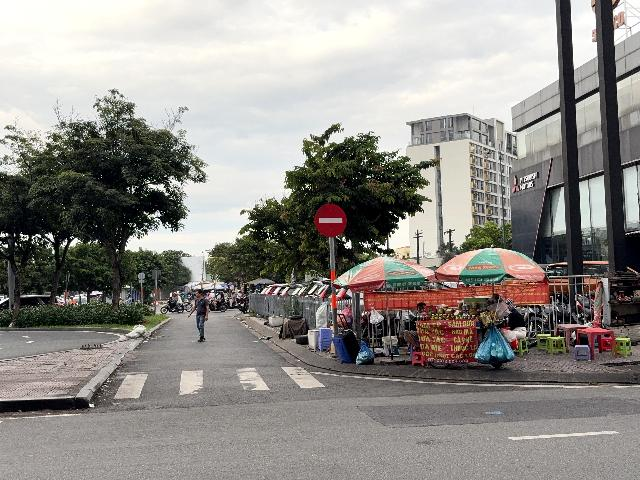cam-di-nguoc-chieu: (314, 203, 347, 237)
